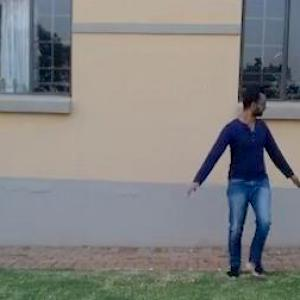land: (188, 81, 299, 294)
